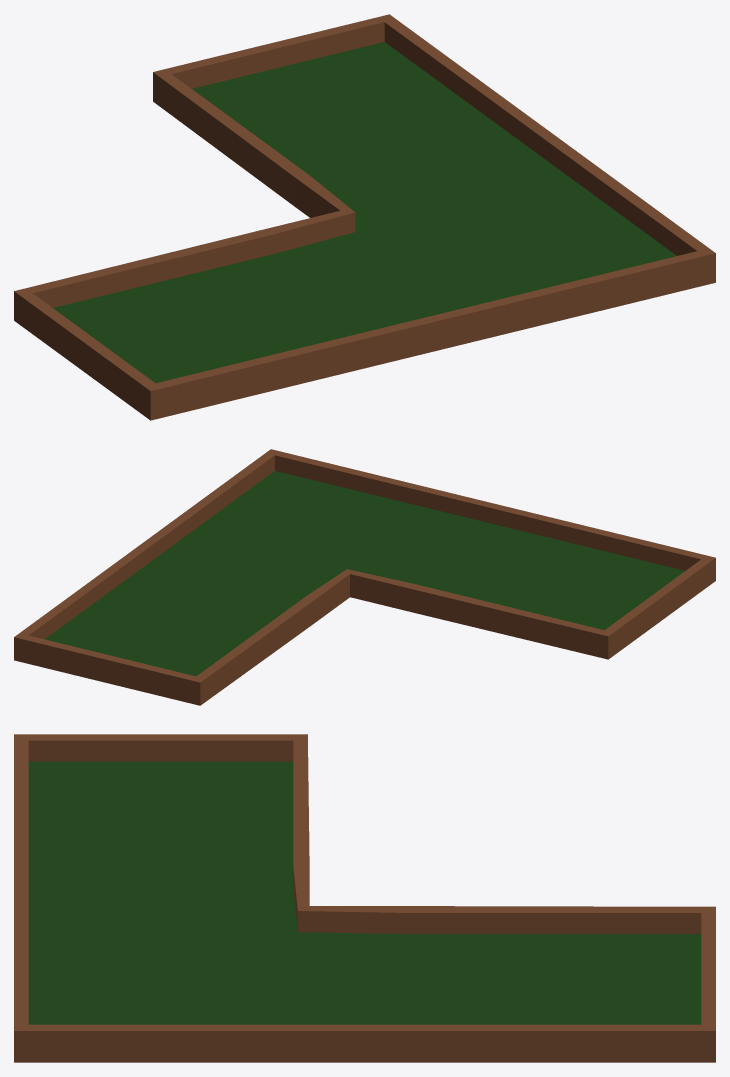
Rendered from GrassCornerBrown.obj.
3 views of the same model, one above another, from view 1: azimuth 30°, elevation 25°; view 2: azimuth 150°, elevation 25°; view 3: azimuth 270°, elevation 25° (orthographic). The views are drawn at different scales.
Parts seen in each view (by area): view 1: trawka.004; view 2: trawka.004; view 3: trawka.004.
Boxes of the visible parts, x1=… form: trawka.004: x1=14, y1=14, x2=715, y2=420; trawka.004: x1=14, y1=449, x2=715, y2=705; trawka.004: x1=14, y1=734, x2=715, y2=1062.
Size of the model in its own units: 12.04 by 0.6 by 12.04.
